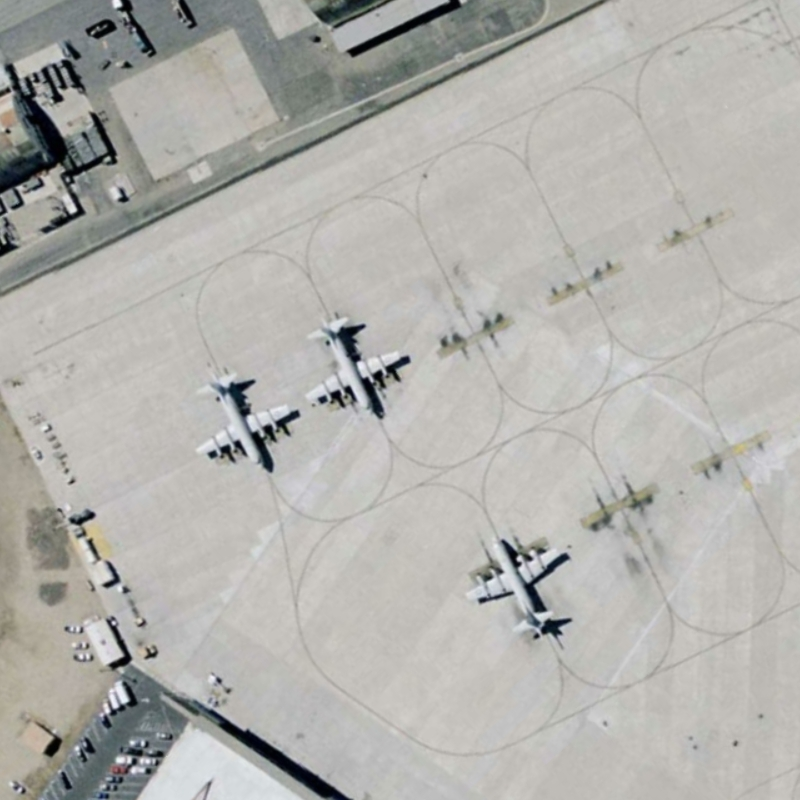A9: (461, 524, 574, 646), (304, 309, 412, 423), (192, 366, 300, 472)
